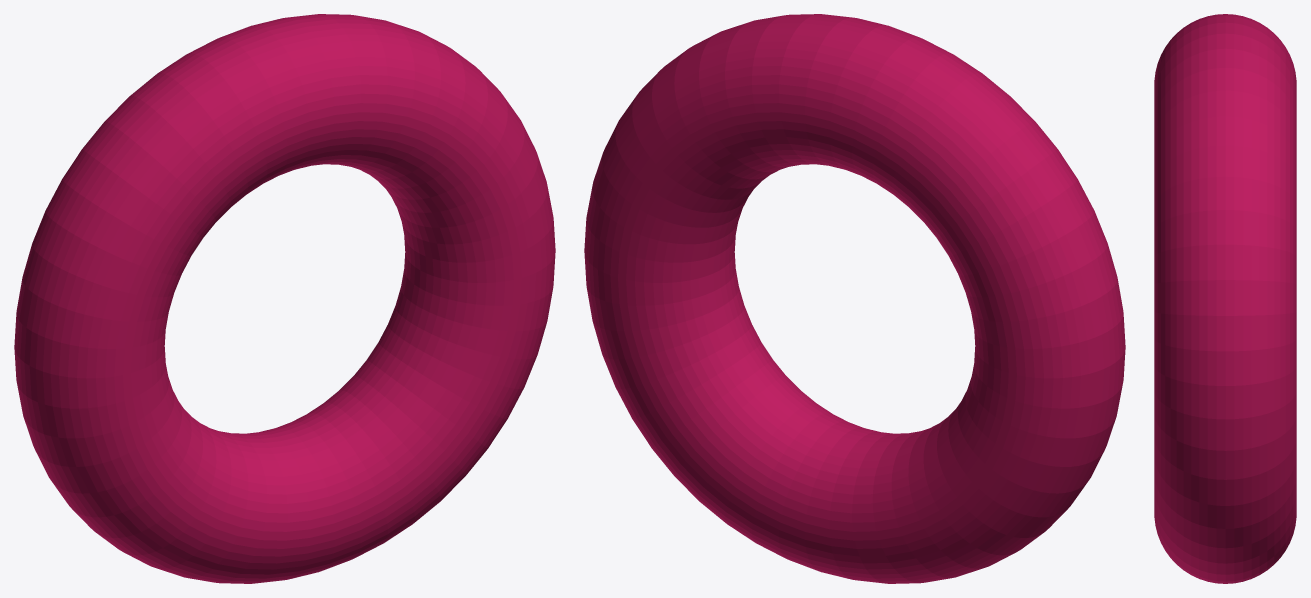
3 renders of one model, left to right at view 1: azimuth 30°, elevation 25°; view 2: azimuth 150°, elevation 25°; view 3: azimuth 270°, elevation 25°, orthographic. The views are drawn at different scales.
Parts seen in each view (by area): view 1: world; view 2: world; view 3: world.
Boxes of the visible parts, x1,y1,x2,y2 form: world: (14, 14, 555, 583); world: (584, 14, 1125, 583); world: (1154, 14, 1296, 583).
Size of the model in its own units: 34.67 by 34.6 by 8.65.
